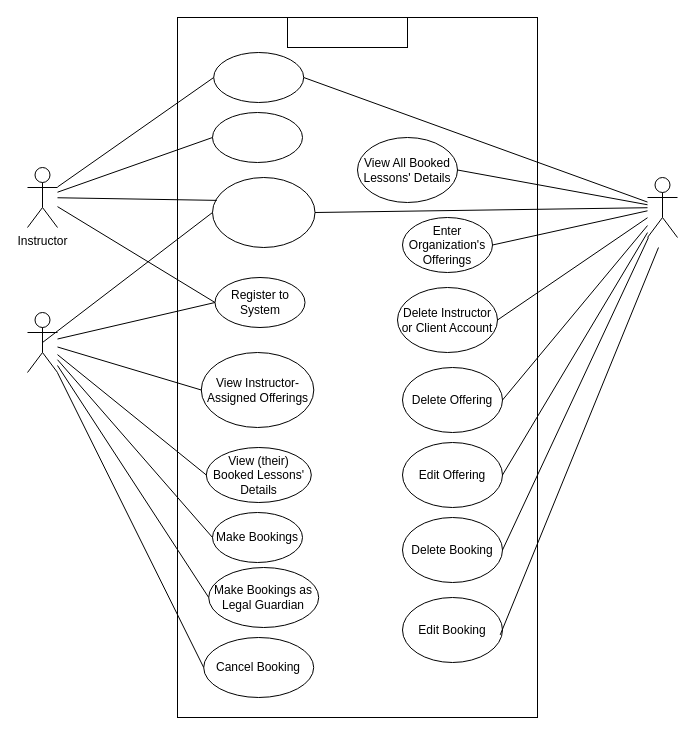
Some shapes in this 696 by 735 pixel diagram are drawn without their labels. Each missing label, with the centre of its shape:
Admin: [662,207]
BookingApp: [347,32]
Client: [42,342]
Login to System: [263,212]
Take on Offerings: [257,137]
View All Available Offerings: [258,77]
